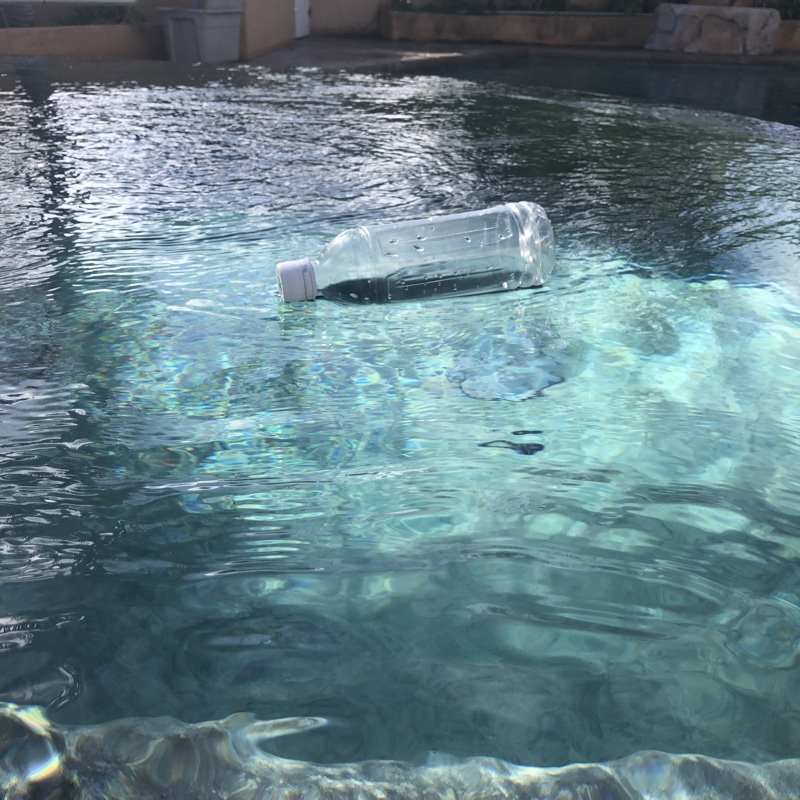Plastic Bottle: (273, 196, 558, 305)
